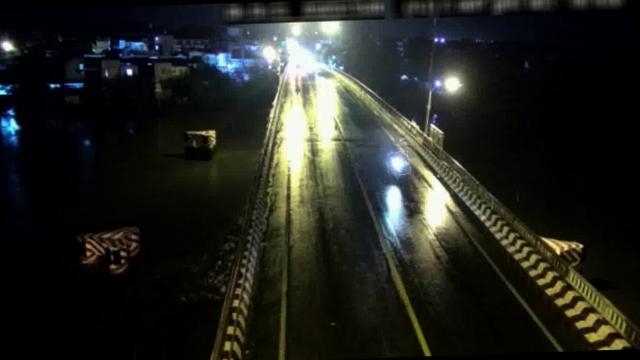Bike: (387, 152, 410, 176)
